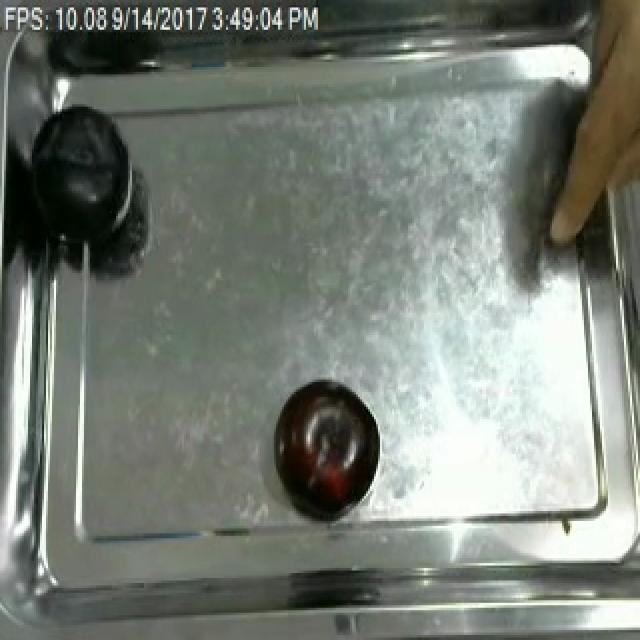Fruit: (30, 94, 142, 243), (268, 374, 378, 514)
